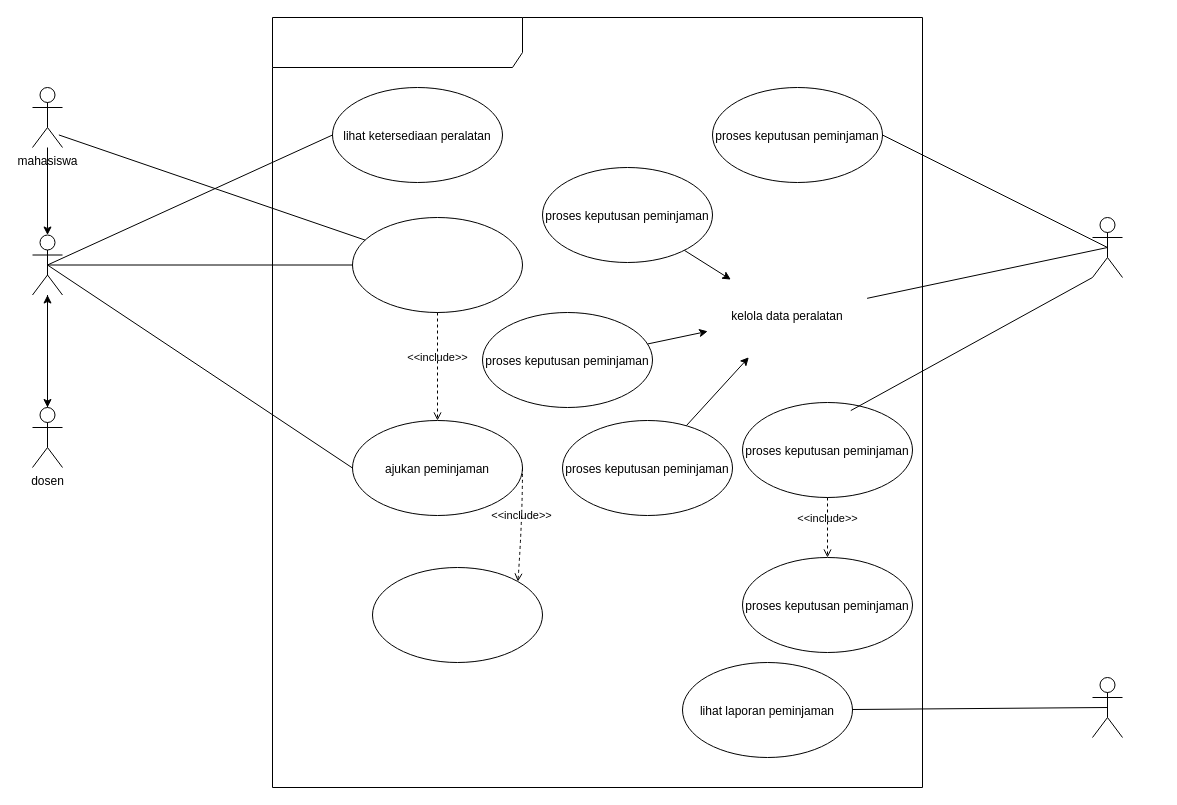
Some shapes in this 1177 by 805 pixel diagram are drawn without their labels. Each missing label, with the box of its shape:
cetak bukti pengajuan: (352, 216, 522, 312)
kepala laboratorium: (1092, 676, 1122, 738)
peminjam: (32, 234, 62, 295)
periksa ketersediaan: (372, 566, 542, 662)
petugas laboratium: (1092, 216, 1122, 278)
Sistem Informasi peminjaman dan pemngembalian peralatan laboratorium kampus: (272, 16, 922, 788)
